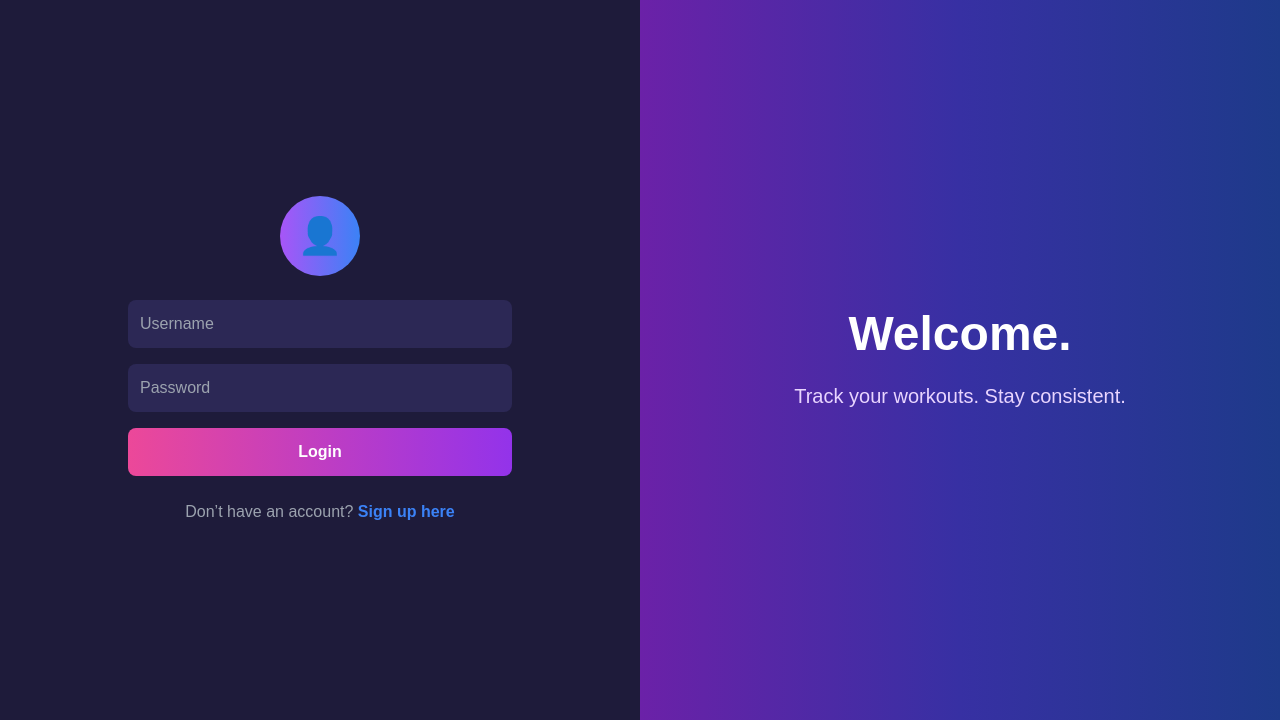
Scenario: shows error on wrong credentials
This screenshot has width=1280, height=720.
Type "alice" into the field with placeholder "Username" at [320, 324], box [128,300,512,348]
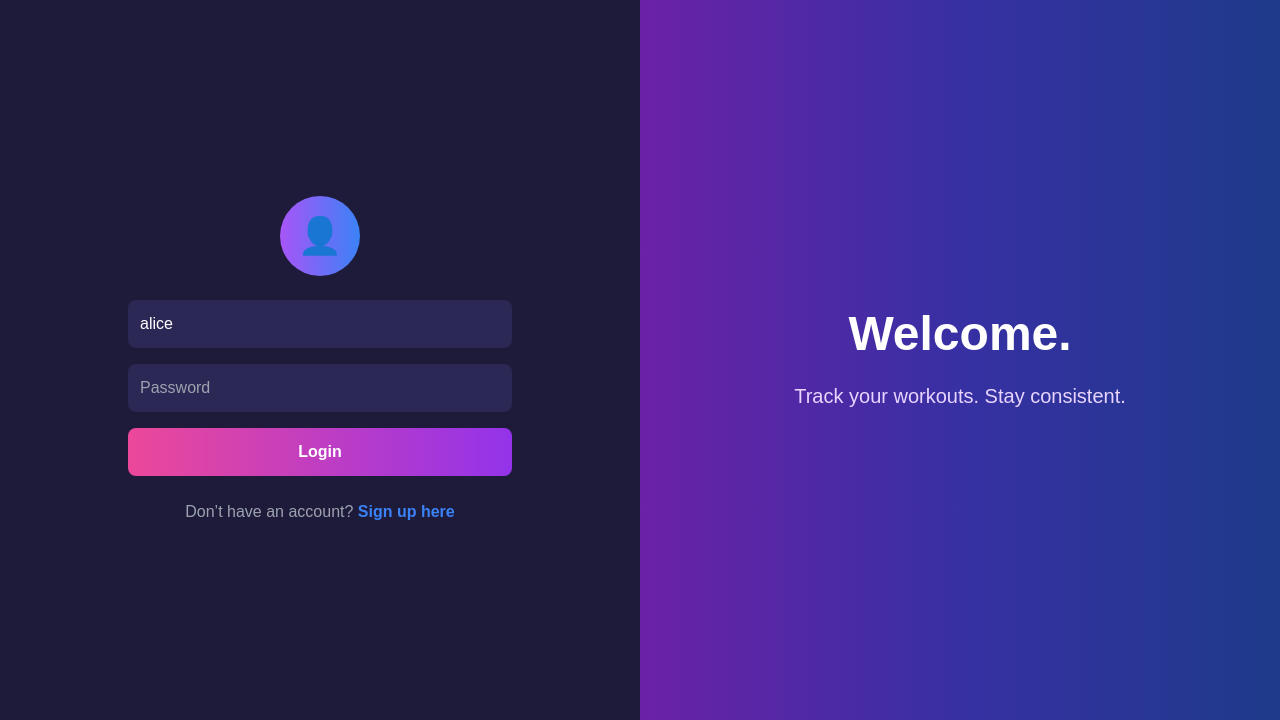
Type "wrong" into the password field with placeholder "Password" at [320, 388], box [128,364,512,412]
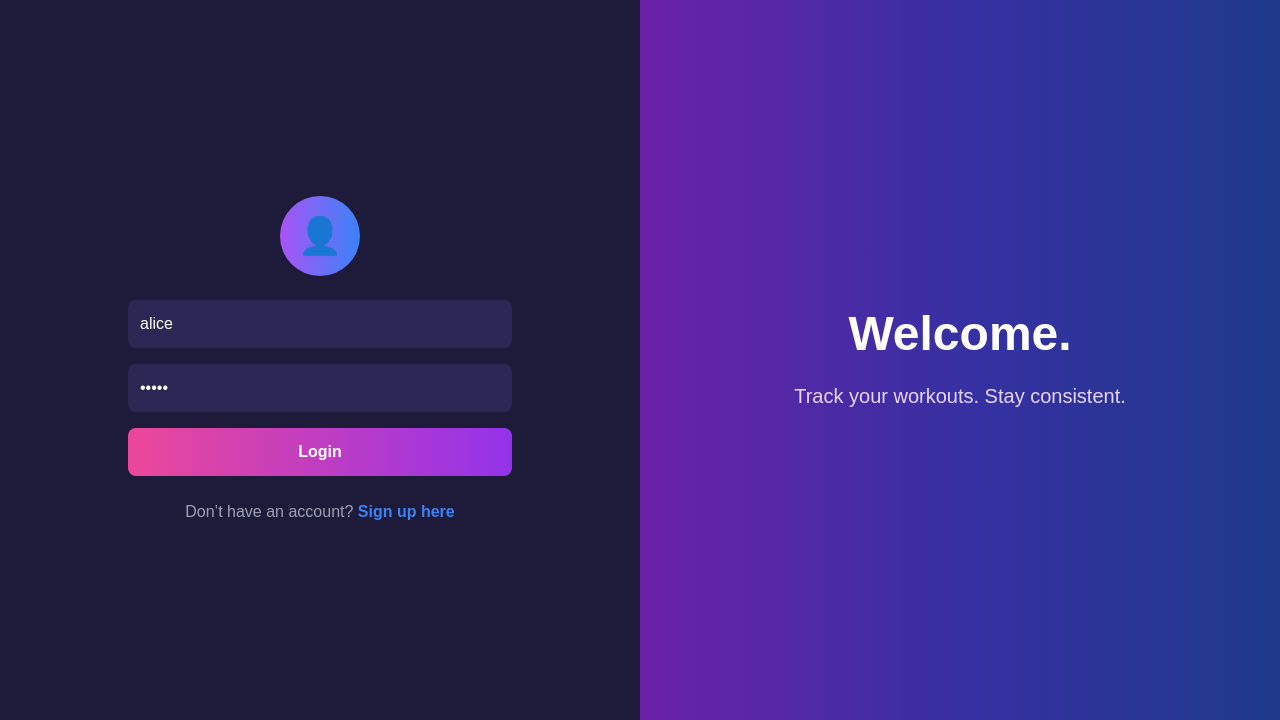
Click the button "Login" at [320, 452], box [128,428,512,476]
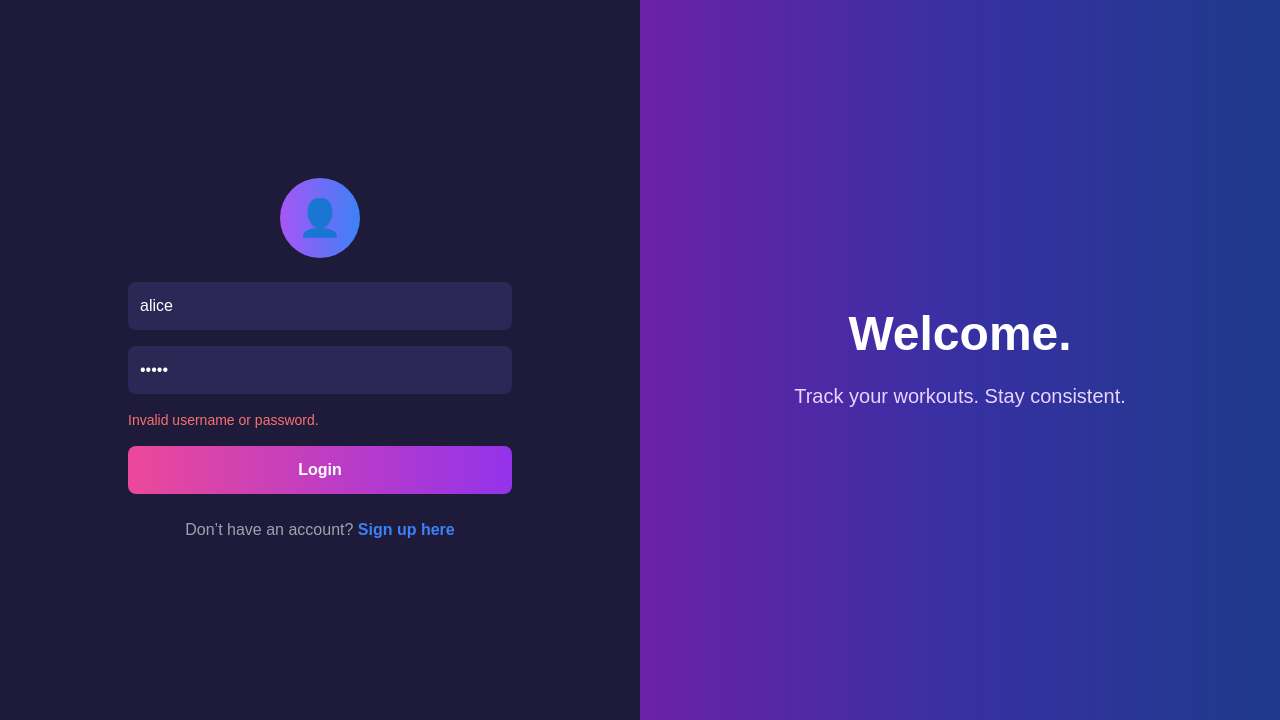
Now the text "Invalid username or password." is shown, box [128,412,319,428]
